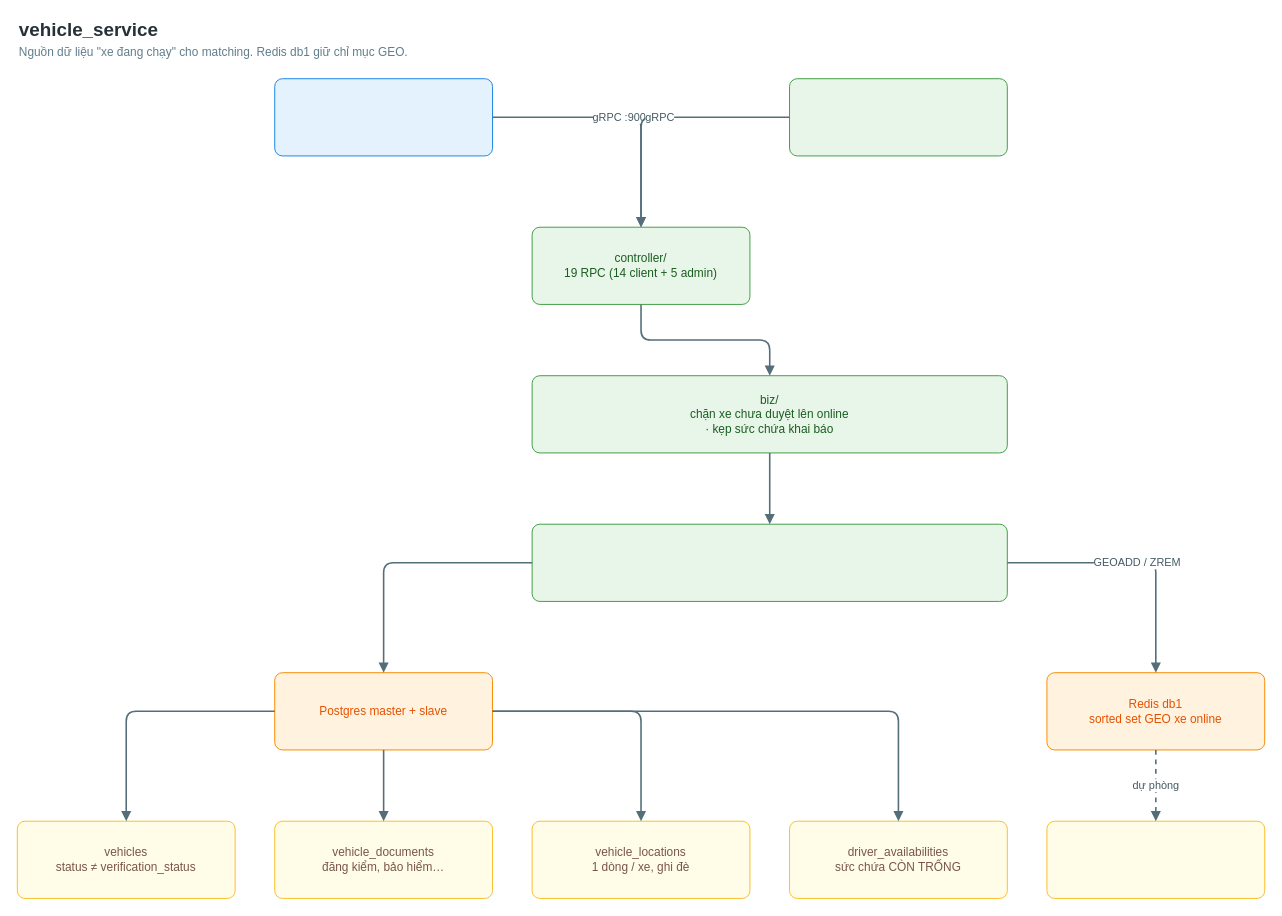
Image size: 1282x916. Some labels were removed from this diagram. Here are the shapes that lost their labels. From the top down, the centre of each, then its label:
(x=383, y=117): gateway_service
(x=898, y=117): matching_service SearchNearbyVehicles
(x=769, y=562): repo/ ghi Postgres TRƯỚC, đồng bộ GEO SAU
(x=1155, y=859): Redis chết → quét zone_id + haversine trong Go
